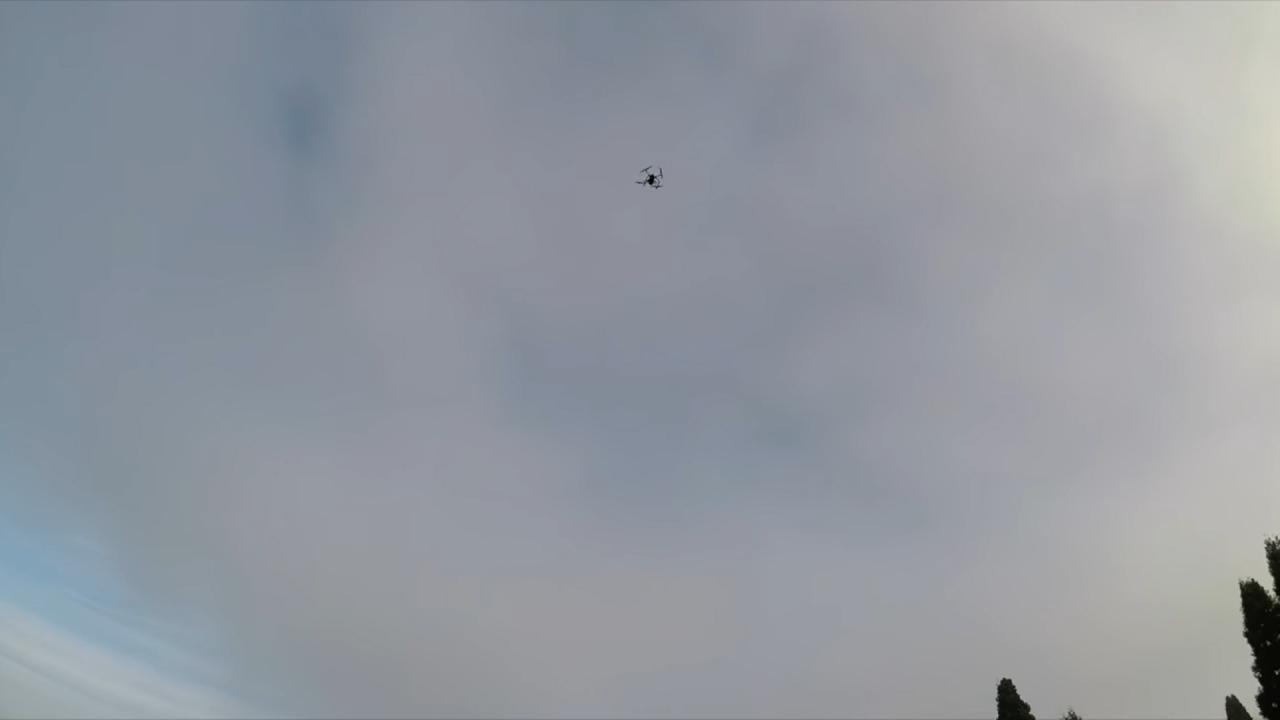Drone: (627, 156, 670, 199)
